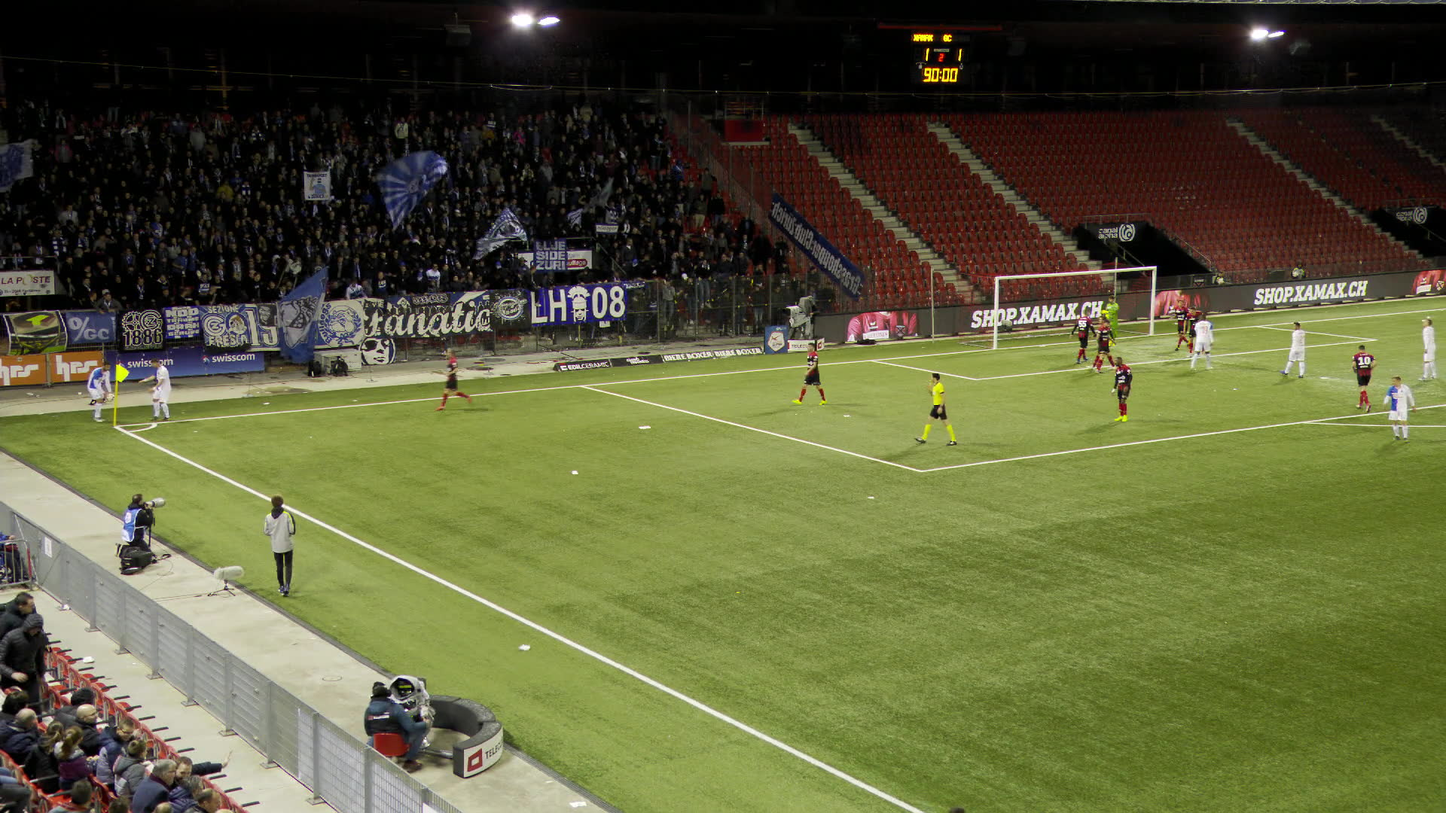ball: (106, 392, 114, 400)
player: (789, 343, 827, 406), (434, 346, 471, 410), (1383, 376, 1416, 442), (137, 358, 170, 421), (1351, 343, 1377, 413), (1279, 321, 1304, 379), (87, 362, 111, 422), (1069, 309, 1094, 364), (1111, 357, 1131, 423), (1190, 313, 1213, 370), (1417, 318, 1437, 381), (1092, 315, 1114, 370), (1100, 293, 1118, 346), (1094, 319, 1110, 373), (1185, 306, 1201, 358), (1174, 300, 1187, 350)
referee: (914, 373, 956, 445)
